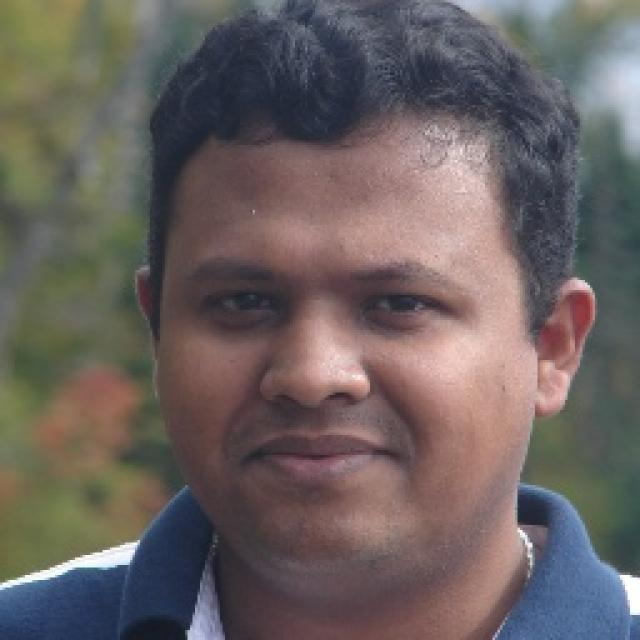earlobe: (534, 359, 574, 417)
eye: (360, 288, 439, 324), (210, 284, 275, 322)
nose: (266, 391, 368, 427)
wholeear: (535, 279, 596, 420), (134, 263, 162, 406)
